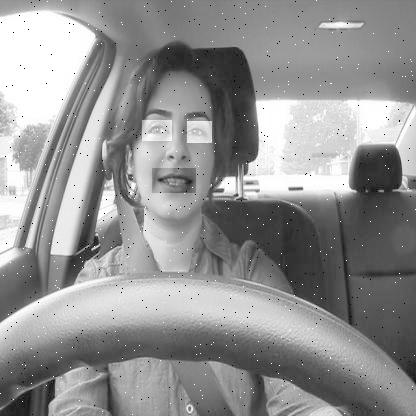seatbelt: (107, 38, 251, 416)
